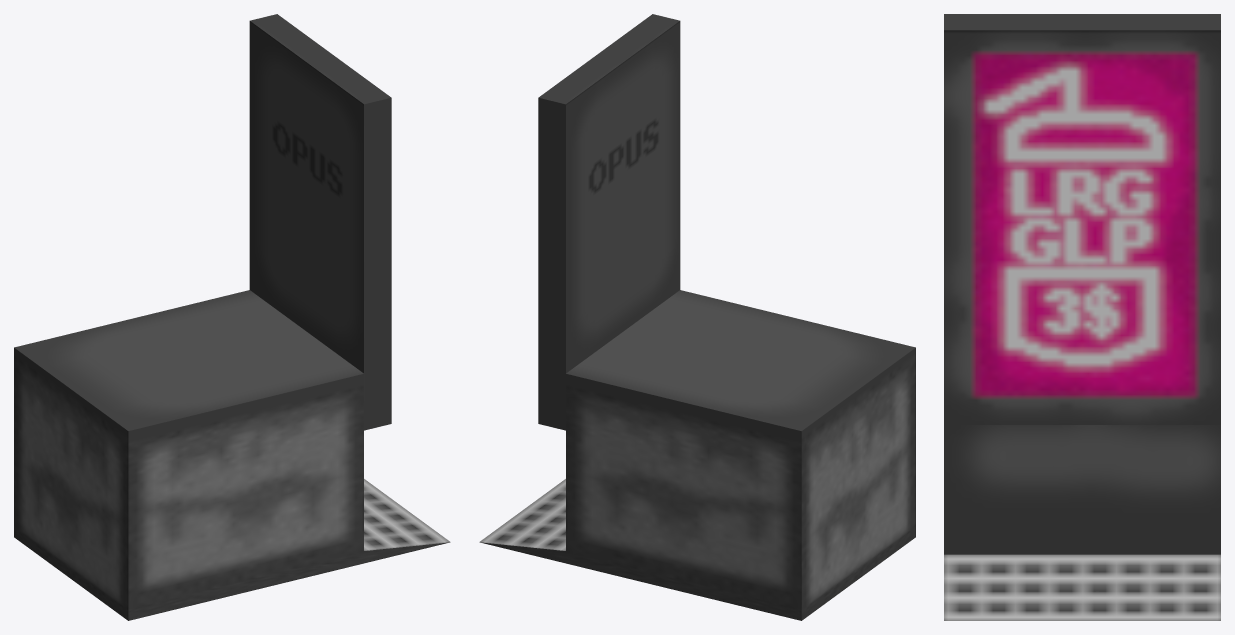
The model's file is LP_SLURPEEMACHINE.fbx.
3 renders of one model, left to right at view 1: azimuth 30°, elevation 25°; view 2: azimuth 150°, elevation 25°; view 3: azimuth 270°, elevation 25°, orthographic. The views are drawn at different scales.
Parts seen in each view (by area): view 1: Cube; view 2: Cube; view 3: Cube.
Part boxes in pixels (left/top/right/bottom): Cube: left=14, top=14, right=450, bottom=620; Cube: left=479, top=14, right=915, bottom=620; Cube: left=944, top=14, right=1220, bottom=620.
Bounding box in the file's own units: 220 × 300 × 135.
1 material, 1 textured.
